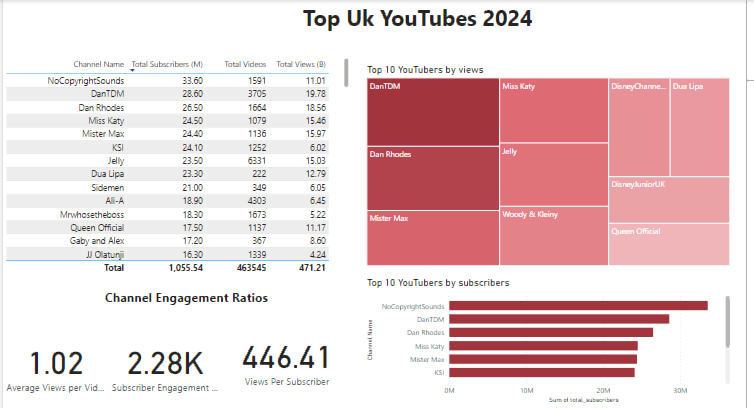

This screenshot's page, from the dashboard's own definition file:
{"tool":"powerbi","page":{"name":"Page 1","canvas":[1280,720],"ordinal":0},"visuals":[{"type":"textbox","box":[460.3,0,508.2,78.7],"z":0},{"type":"tableEx","fields":{"Values":["view_Uk_Youtubers_2024.Channel_Name","view_Uk_Youtubers_2024.Total Subscribers (M)","view_Uk_Youtubers_2024.Total Videos","view_Uk_Youtubers_2024.Total Views (B)"]},"box":[0,94.8,601.2,382.4],"z":1000},{"type":"treemap","title":"Top 10 YouTubers by views","fields":{"Group":["view_Uk_Youtubers_2024.Channel_Name"],"Values":["view_Uk_Youtubers_2024.Total Views (B)"]},"box":[621.2,109.5,634.9,352.5],"z":2000},{"type":"card","fields":{"Values":["view_Uk_Youtubers_2024.Average Views per Video (M)"]},"box":[0,537.5,180.9,182.6],"z":3000},{"type":"card","fields":{"Values":["view_Uk_Youtubers_2024.Subscriber Engagement Rate"]},"box":[180.9,537.5,196.4,182.6],"z":4000},{"type":"card","fields":{"Values":["view_Uk_Youtubers_2024.Views Per Subscriber"]},"box":[377.3,537.5,224,163.7],"z":5000},{"type":"clusteredBarChart","title":"Top 10 YouTubers by subscribers","fields":{"Category":["view_Uk_Youtubers_2024.Channel_Name"],"Y":["view_Uk_Youtubers_2024.total_subscribers"]},"box":[621.9,477.2,635.7,222.2],"z":6000},{"type":"textbox","box":[99.9,492.7,432.4,60.3],"z":7000}]}

Visuals, with their boxes on the page's 1280x720 design canvas (x1, y1, x2, y2). These are canvas units, not pixel positions in the 754x408 screenshot, which may show the page scaled, cropped or inside an application window:
textbox: box(460, 0, 968, 79)
tableEx - view_Uk_Youtubers_2024.Channel_Name x view_Uk_Youtubers_2024.Total Subscribers (M): box(0, 95, 601, 477)
"Top 10 YouTubers by views" treemap: box(621, 110, 1256, 462)
card - view_Uk_Youtubers_2024.Average Views per Video (M): box(0, 538, 181, 720)
card - view_Uk_Youtubers_2024.Subscriber Engagement Rate: box(181, 538, 377, 720)
card - view_Uk_Youtubers_2024.Views Per Subscriber: box(377, 538, 601, 701)
"Top 10 YouTubers by subscribers" clusteredBarChart: box(622, 477, 1258, 699)
textbox: box(100, 493, 532, 553)
